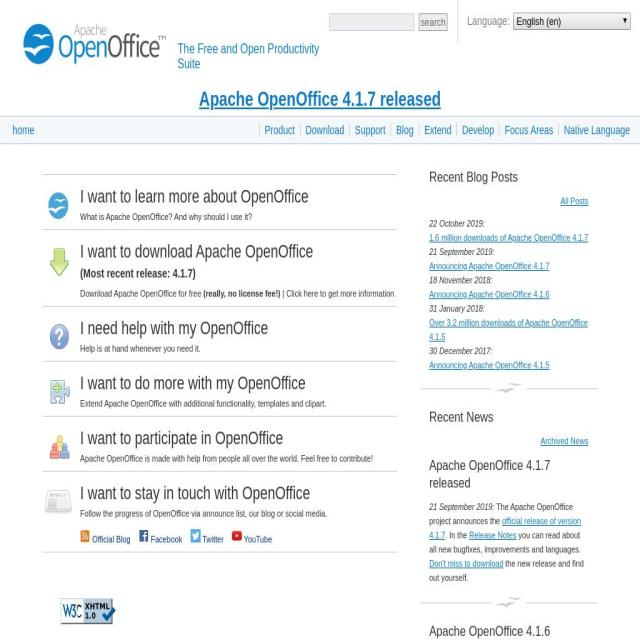button: (42, 242, 397, 284), (42, 187, 397, 225), (42, 319, 397, 357), (42, 374, 397, 412), (42, 429, 397, 467), (42, 484, 397, 522), (564, 124, 630, 138), (504, 124, 554, 138), (305, 124, 344, 138), (462, 124, 495, 138), (354, 124, 386, 138), (264, 124, 295, 138), (11, 122, 36, 139), (424, 124, 451, 138), (396, 124, 414, 138)
field: (512, 12, 630, 31), (329, 13, 415, 31), (419, 13, 448, 31)
heading: (80, 242, 397, 262), (80, 374, 397, 394), (80, 484, 397, 504), (80, 429, 397, 448), (429, 456, 589, 492), (80, 188, 397, 206), (80, 320, 397, 338), (429, 167, 589, 186), (429, 407, 589, 426), (429, 621, 589, 640)
image: (10, 3, 178, 87), (60, 598, 116, 625), (80, 529, 91, 543), (138, 529, 149, 543), (190, 529, 201, 543), (232, 529, 242, 543)
link: (80, 265, 397, 283), (198, 88, 440, 110), (80, 396, 397, 412), (80, 506, 397, 522), (80, 210, 397, 225), (80, 342, 397, 356), (80, 452, 397, 466), (429, 316, 588, 342), (429, 515, 581, 540), (429, 416, 552, 441), (429, 232, 588, 242), (429, 600, 572, 611), (429, 515, 560, 526), (429, 288, 549, 300), (429, 260, 549, 271), (429, 359, 549, 370), (429, 458, 549, 469), (429, 487, 549, 498), (429, 544, 560, 554), (286, 288, 394, 300), (429, 388, 549, 398), (203, 288, 281, 300), (429, 572, 516, 582), (429, 558, 503, 568), (540, 435, 589, 446), (469, 529, 516, 540), (92, 534, 130, 545), (151, 534, 183, 545), (560, 195, 589, 206), (244, 534, 272, 545), (202, 534, 224, 545)
text: (178, 41, 320, 70), (429, 529, 581, 554), (429, 558, 584, 582), (429, 501, 573, 526), (80, 288, 204, 300), (429, 501, 494, 512), (429, 501, 494, 512), (428, 274, 492, 285), (428, 345, 492, 356), (429, 302, 485, 314), (429, 246, 494, 256), (428, 402, 492, 412), (428, 586, 492, 596), (467, 14, 512, 28), (429, 444, 485, 455), (429, 472, 485, 483), (429, 218, 485, 228), (429, 374, 485, 384), (428, 529, 472, 540), (429, 558, 473, 568), (445, 529, 470, 540), (280, 288, 286, 300), (394, 288, 396, 300)
